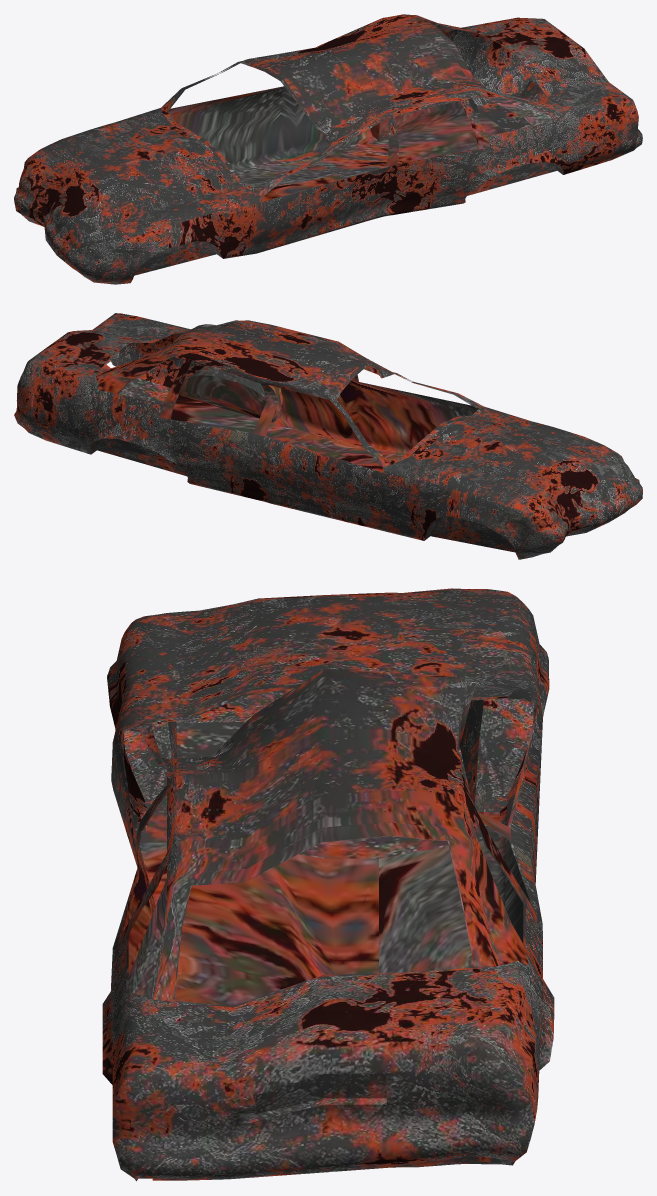
File: burnt-car-a.glb
3 views of the same model, one above another, from view 1: azimuth 30°, elevation 25°; view 2: azimuth 150°, elevation 25°; view 3: azimuth 270°, elevation 25° (orthographic). The views are drawn at different scales.
Parts seen in each view (by area): view 1: body_02 - Default_0; view 2: body_02 - Default_0; view 3: body_02 - Default_0.
Boxes of the visible parts, x1=… form: body_02 - Default_0: x1=14, y1=14, x2=642, y2=284; body_02 - Default_0: x1=14, y1=313, x2=642, y2=559; body_02 - Default_0: x1=102, y1=588, x2=554, y2=1181.
Size of the model in its own units: 329 by 72.86 by 117.
Materials: 1 (1 with a texture image).
